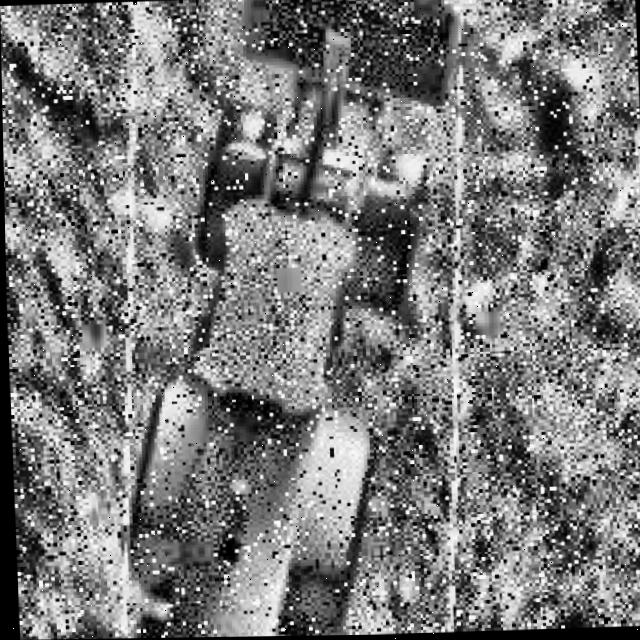buldozerpayloadergrader: (93, 0, 478, 639)
